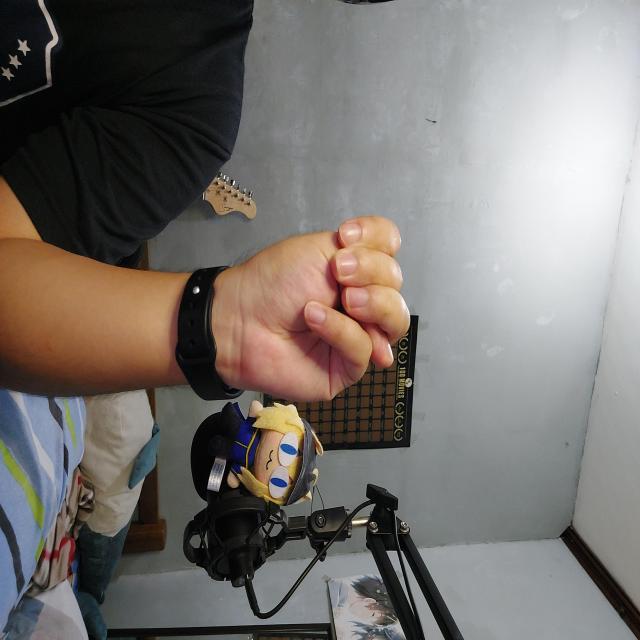M: (222, 205, 419, 426)
